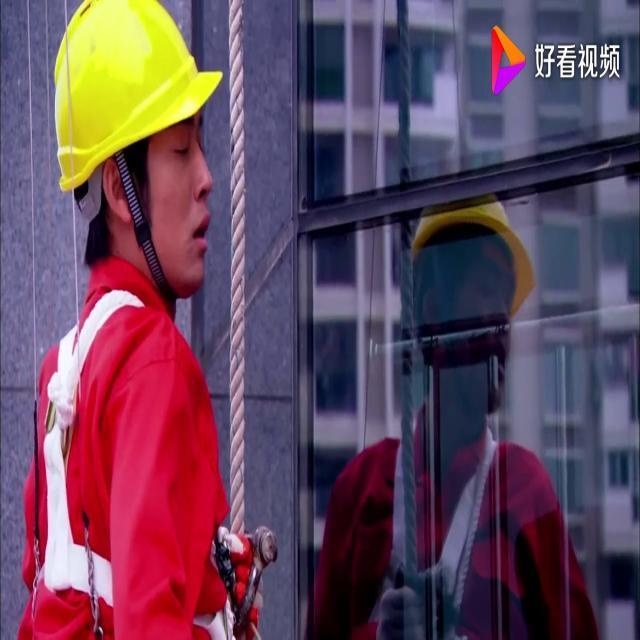Arnes_seguridad: (38, 273, 230, 639)
